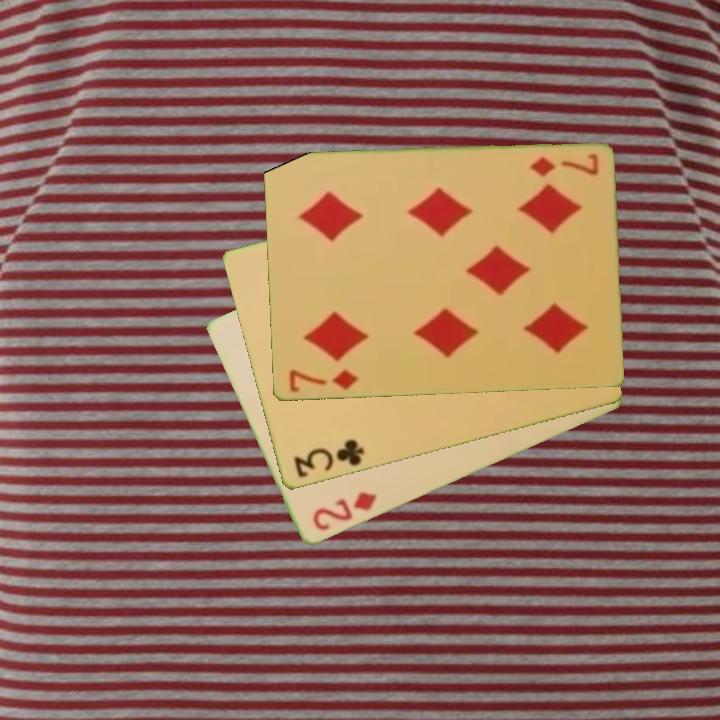2d: (309, 488, 379, 535)
3c: (289, 436, 367, 481)
7d: (525, 150, 601, 181), (285, 366, 361, 396)
